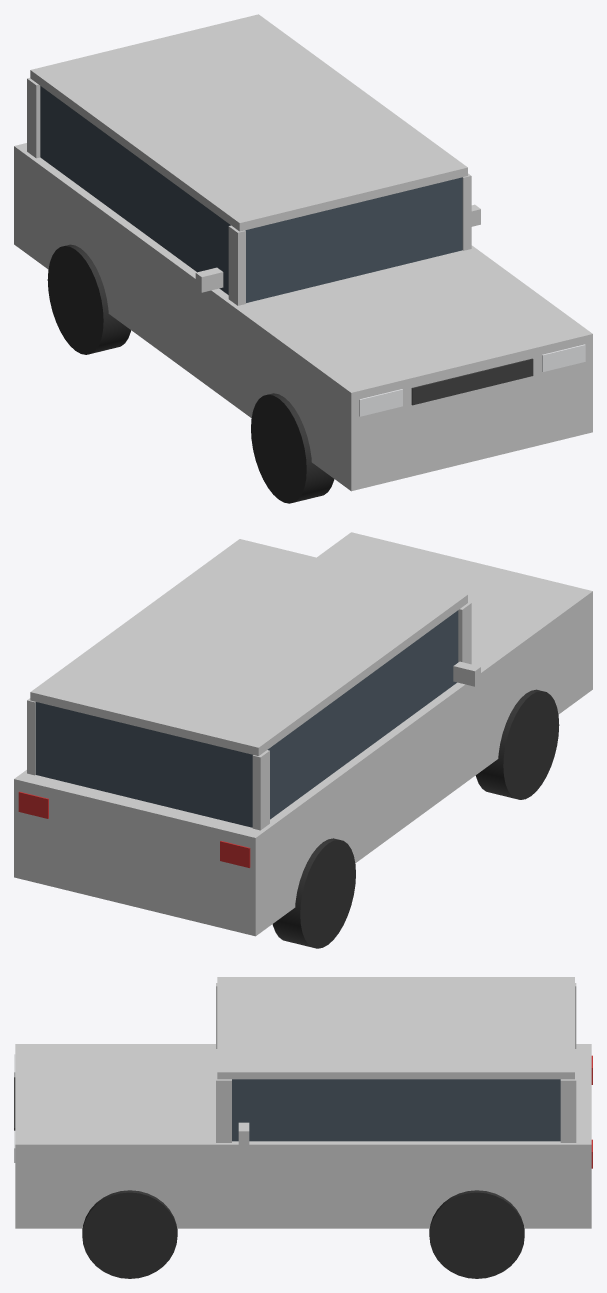
Rendered from placeholder-suv.glb.
The picture shows the model from 3 angles, top to bottom: view 1: azimuth 30°, elevation 25°; view 2: azimuth 150°, elevation 25°; view 3: azimuth 270°, elevation 25°; orthographic projection. The views are drawn at different scales.
Parts seen in each view (by area): view 1: lataria, teto, vidros, roda_diant_d, roda_tras_d, grade, coluna_a_d, coluna_c_d, farol_e, farol_d, coluna_a_e; view 2: lataria, teto, vidros, roda_tras_d, roda_diant_d, coluna_c_d, coluna_a_d, coluna_c_e, lanterna_e, lanterna_d, retrovisor_d; view 3: lataria, teto, vidros, roda_diant_e, roda_tras_e, coluna_c_e, coluna_a_e.
Boxes of the visible parts, x1,y1,x2,y2 form: lataria: [14, 143, 592, 491]; teto: [30, 14, 467, 231]; vidros: [40, 86, 462, 302]; roda_diant_d: [251, 393, 334, 503]; roda_tras_d: [47, 244, 130, 354]; grade: [411, 358, 533, 405]; coluna_a_d: [228, 225, 245, 305]; coluna_c_d: [27, 78, 40, 158]; farol_e: [542, 344, 585, 371]; farol_d: [359, 389, 402, 416]; coluna_a_e: [462, 173, 471, 250]; lataria: [14, 532, 592, 936]; teto: [30, 539, 467, 755]; vidros: [35, 610, 458, 827]; roda_tras_d: [272, 838, 355, 948]; roda_diant_d: [475, 689, 559, 799]; coluna_c_d: [252, 750, 269, 830]; coluna_a_d: [458, 602, 471, 664]; coluna_c_e: [27, 698, 35, 775]; lanterna_e: [18, 791, 48, 818]; lanterna_d: [220, 841, 250, 867]; retrovisor_d: [453, 661, 480, 686]; lataria: [15, 1044, 591, 1228]; teto: [217, 977, 574, 1079]; vidros: [232, 1079, 560, 1141]; roda_diant_e: [82, 1190, 177, 1278]; roda_tras_e: [429, 1190, 524, 1278]; coluna_c_e: [560, 1077, 576, 1142]; coluna_a_e: [216, 1077, 231, 1142].
Bounding box in the file's own units: 2.08 × 1.68 × 4.37.
